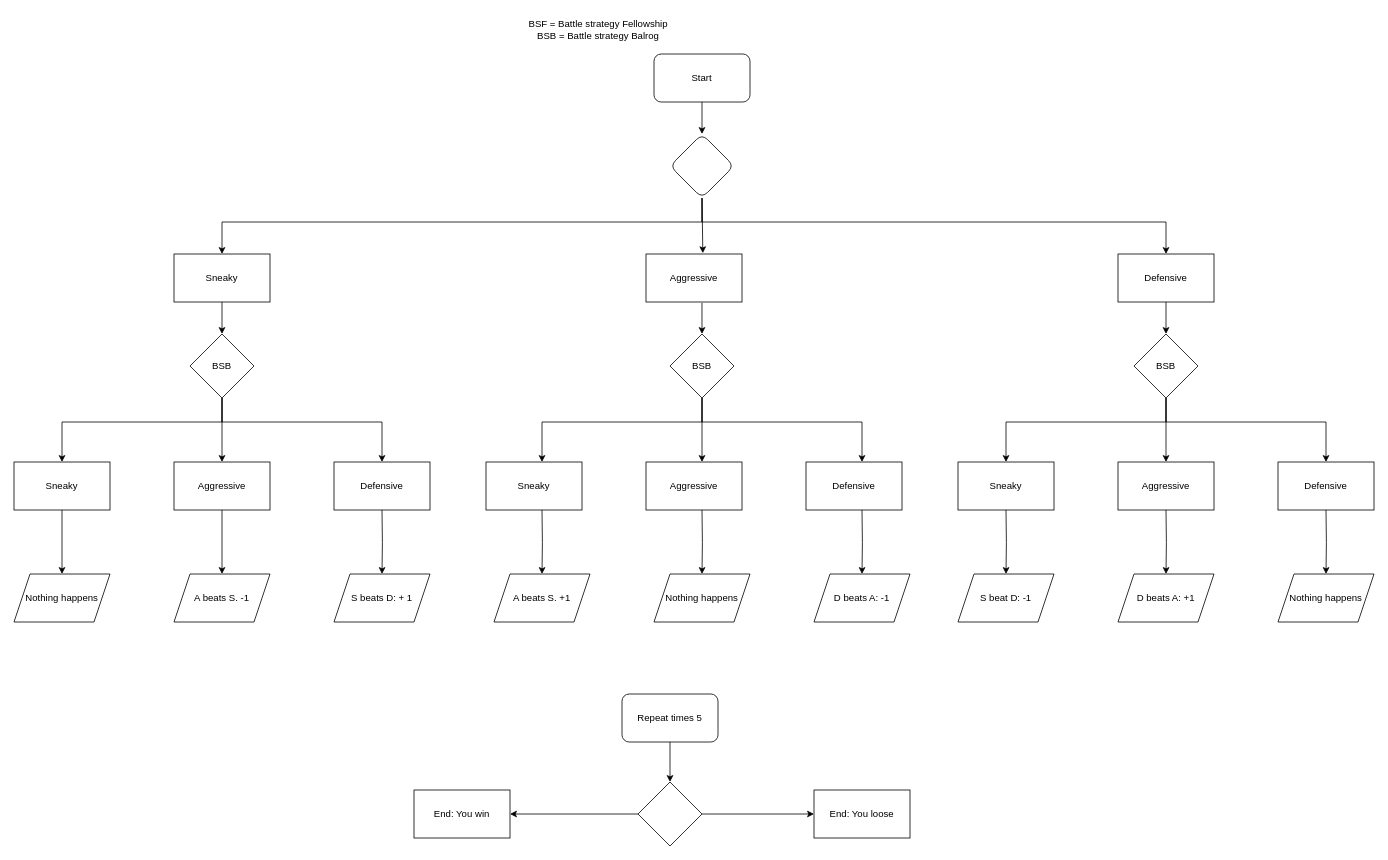
Image size: 1388x860. Some labels were removed from this diagram. The shapes that lost their labels are listed below. From the top down, each one's centre as x and y in pixels, then its label:
point 701,165: BSF
point 669,813: F > B
